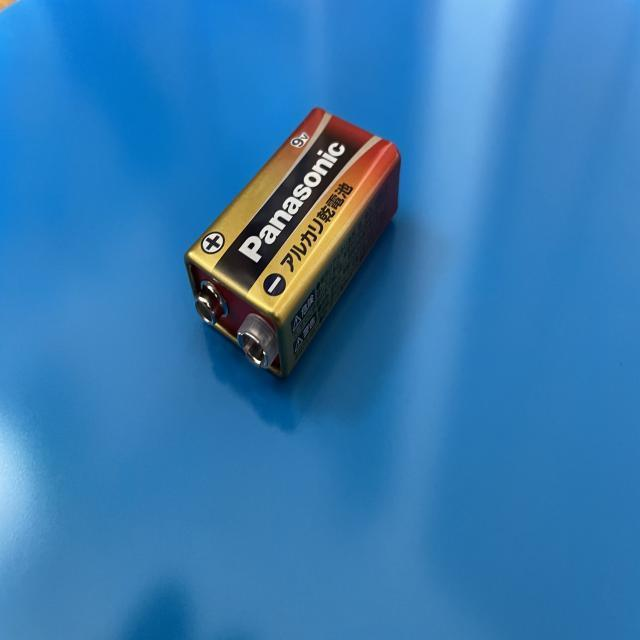9V: (185, 108, 401, 376)
